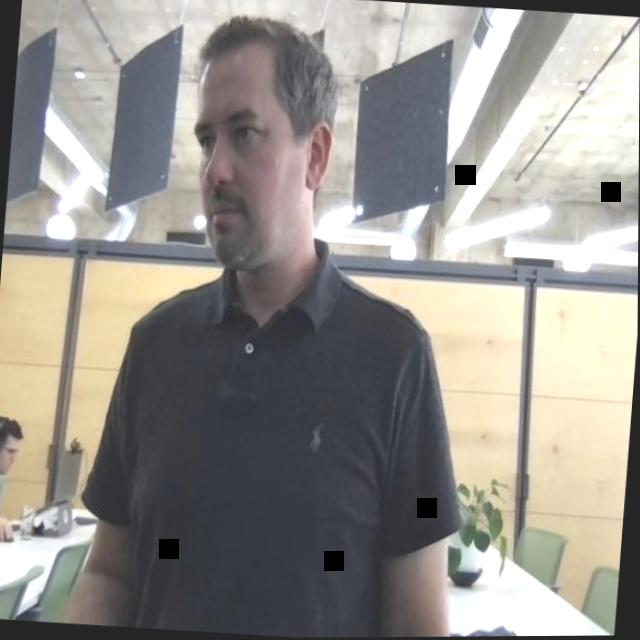NO-Mask: (181, 8, 348, 283), (0, 411, 27, 475)
